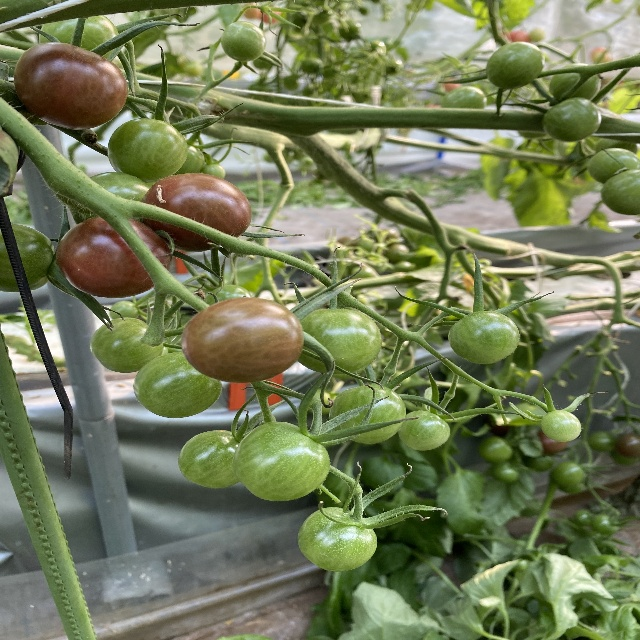l_fully_ripened: (14, 41, 129, 130), (55, 215, 172, 298), (139, 172, 252, 252)
l_green: (232, 420, 330, 501), (133, 351, 224, 419), (296, 309, 382, 374), (298, 507, 378, 573), (107, 118, 188, 183), (71, 172, 153, 227), (330, 385, 405, 444), (90, 318, 163, 373), (448, 311, 520, 365), (38, 15, 120, 62), (178, 430, 243, 489), (0, 224, 56, 292), (486, 41, 545, 89), (541, 97, 601, 142), (397, 410, 452, 451), (549, 63, 601, 103), (221, 21, 267, 62), (587, 148, 639, 184), (601, 170, 639, 216), (540, 409, 582, 442), (441, 86, 487, 109), (205, 285, 252, 307), (175, 144, 204, 174), (111, 300, 139, 320), (198, 164, 226, 179)
l_half_ripened: (181, 297, 304, 383)
